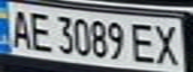0: (69, 15, 90, 57)
3: (51, 12, 75, 56)
8: (87, 17, 109, 60)
9: (106, 18, 130, 61)
A: (3, 6, 33, 49)
E: (127, 19, 160, 65), (24, 9, 54, 53)
X: (151, 20, 187, 68)
